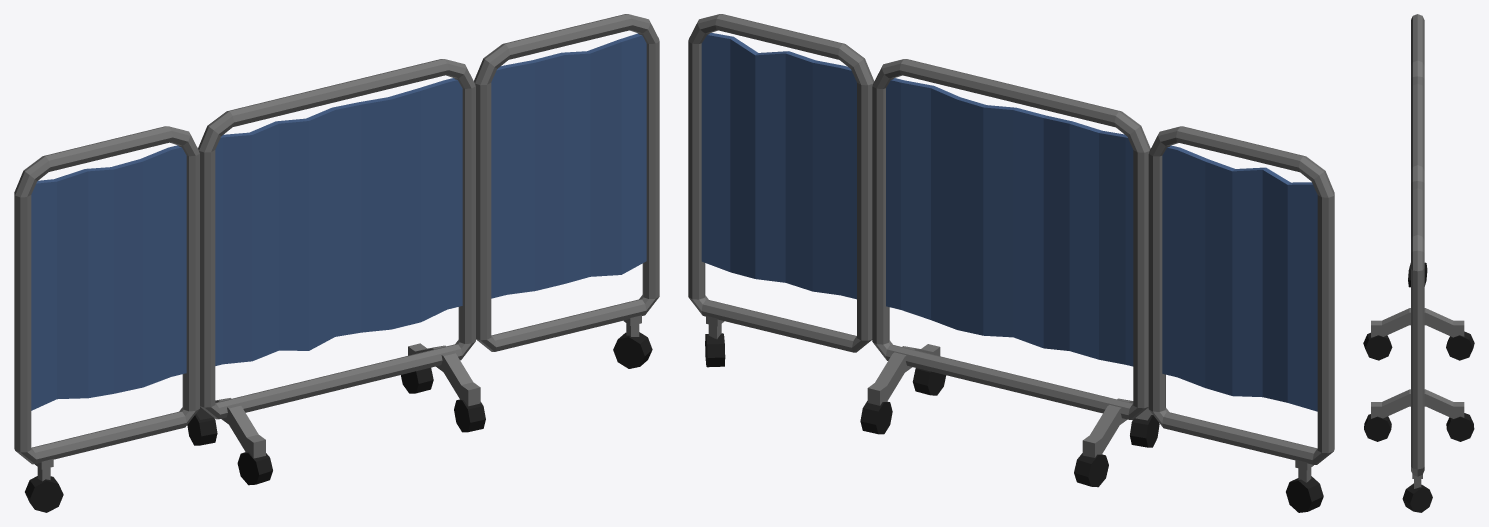
The model's file is Curtain Stand.fbx.
3 renders of one model, left to right at view 1: azimuth 30°, elevation 25°; view 2: azimuth 150°, elevation 25°; view 3: azimuth 270°, elevation 25°, orthographic. The views are drawn at different scales.
Parts seen in each view (by area): view 1: middle, right, left; view 2: middle, left, right; view 3: middle, right, left.
Part boxes in pixels (x1=…): middle: x1=187, y1=59, x2=485, y2=485; right: x1=474, y1=14, x2=659, y2=368; left: x1=14, y1=126, x2=199, y2=512; middle: x1=860, y1=59, x2=1159, y2=487; left: x1=1148, y1=126, x2=1334, y2=512; right: x1=688, y1=14, x2=874, y2=367; middle: x1=1363, y1=83, x2=1474, y2=441; right: x1=1402, y1=188, x2=1432, y2=512; left: x1=1408, y1=14, x2=1427, y2=287.
Size of the model in its own units: 420 by 220 by 81.06.
